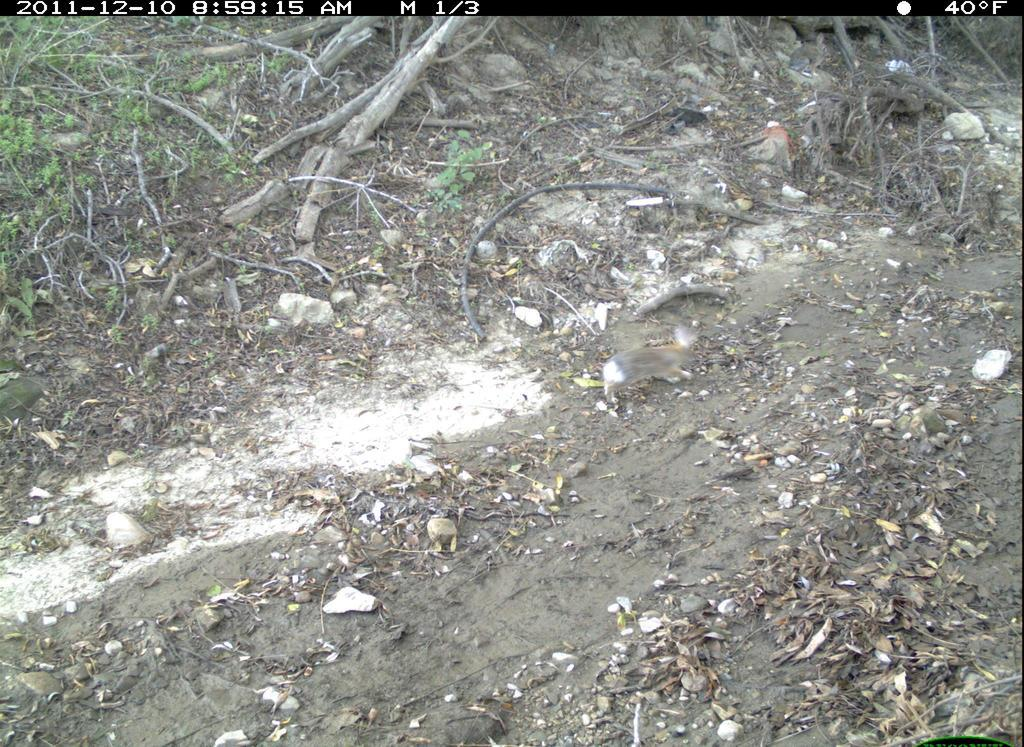rabbit: (572, 305, 749, 420)
